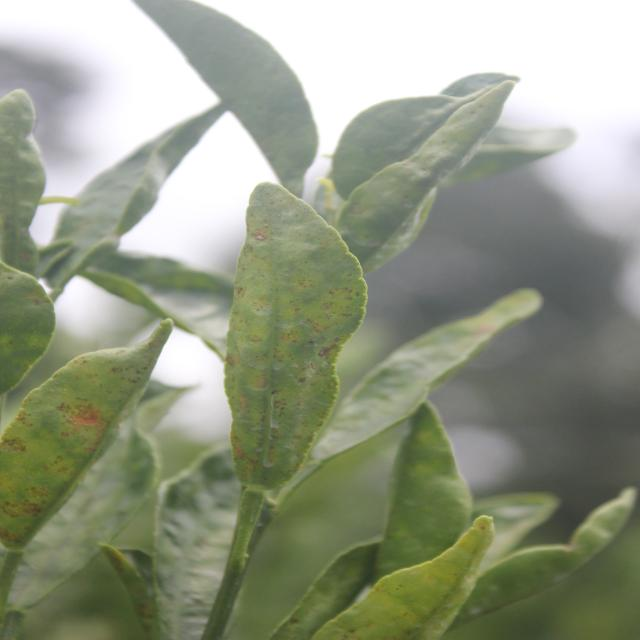canker: (224, 200, 357, 479), (0, 342, 169, 542), (0, 266, 52, 337)
